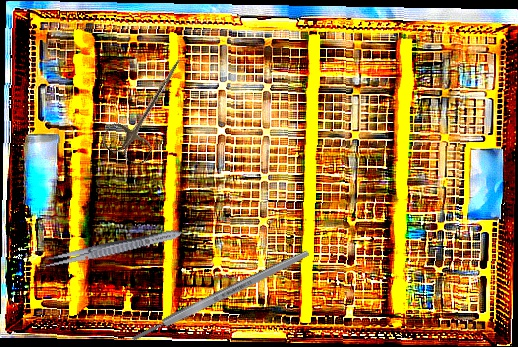Dressing Forceps: (36, 225, 185, 273)
Iris Scissors: (99, 46, 198, 169)
Scalpel Handle: (129, 247, 312, 345)
